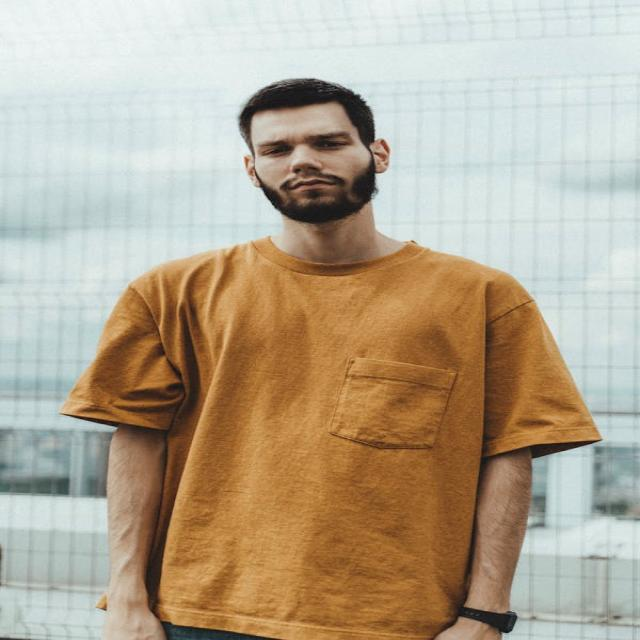Real human 2: (81, 63, 578, 640)
